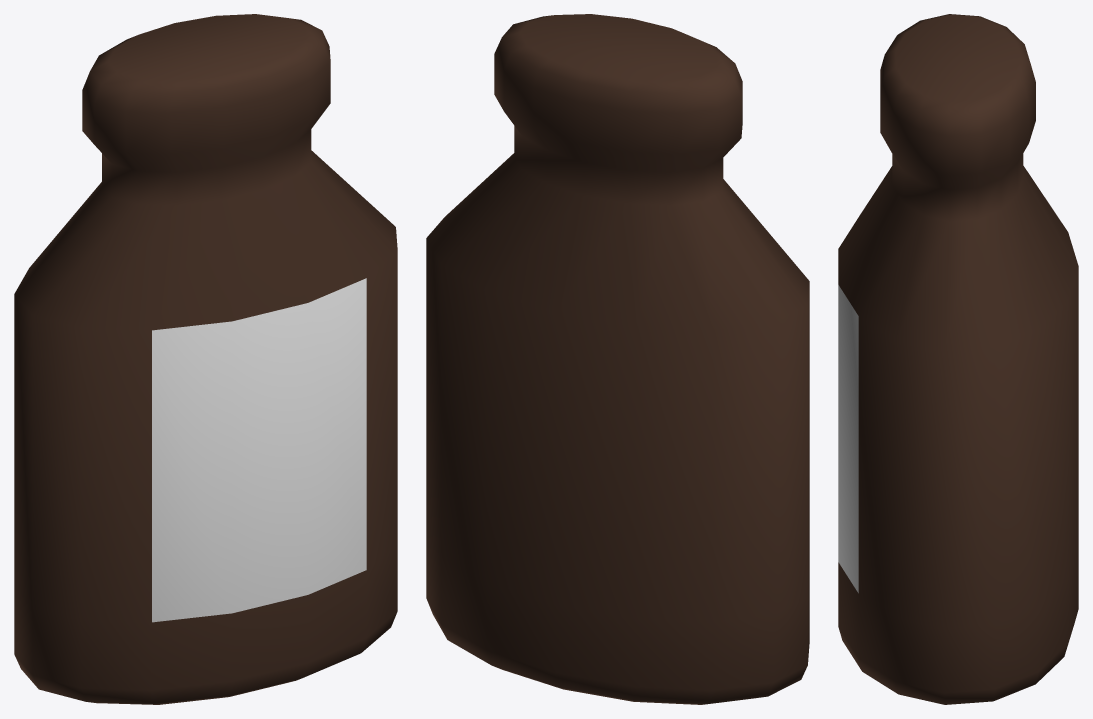
File: Hidrogen Peroksida.fbx
The picture shows the model from 3 angles, left to right: view 1: azimuth 30°, elevation 25°; view 2: azimuth 150°, elevation 25°; view 3: azimuth 270°, elevation 25°; orthographic projection. The views are drawn at different scales.
Parts seen in each view (by area): view 1: Cylinder; view 2: Cylinder; view 3: Cylinder.
Part boxes in pixels (bbox=[...]): Cylinder: bbox=[14, 14, 397, 704]; Cylinder: bbox=[426, 14, 809, 704]; Cylinder: bbox=[838, 14, 1078, 704].
Bounding box in the file's own units: 199 × 315 × 120.
